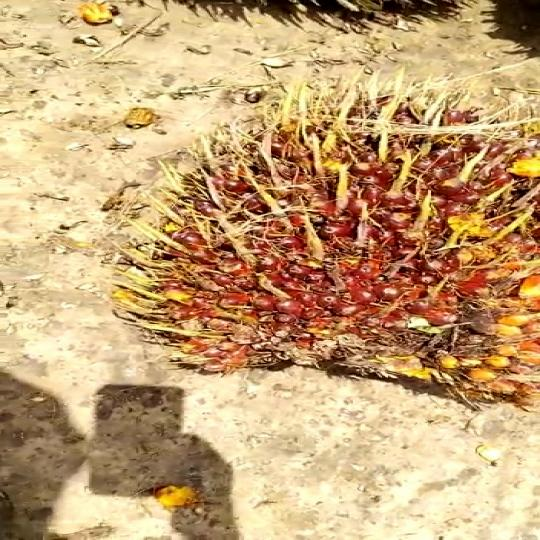masak: (124, 84, 540, 432)
